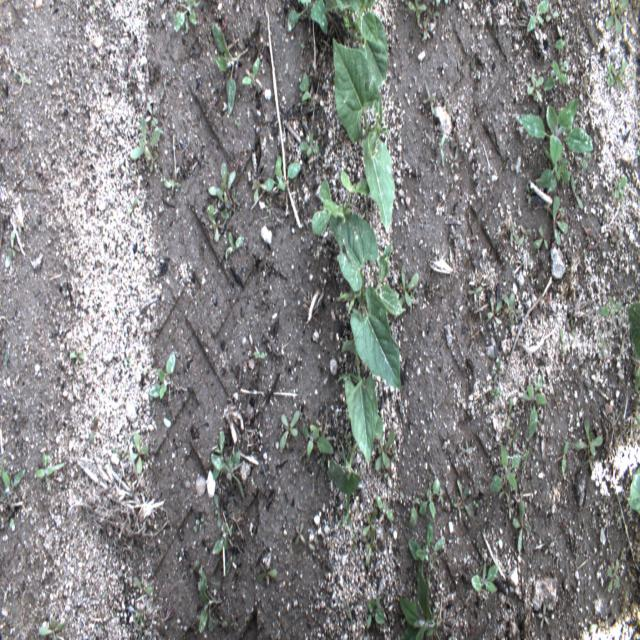crop: (310, 178, 404, 475), (332, 33, 396, 234), (284, 0, 391, 93)
weed: (515, 93, 596, 212), (208, 12, 252, 131), (399, 527, 446, 637), (328, 434, 365, 535), (248, 150, 306, 213), (490, 430, 527, 520), (208, 416, 245, 502), (361, 486, 394, 572), (205, 162, 240, 242), (125, 103, 164, 174), (400, 471, 442, 529), (197, 559, 227, 637), (518, 369, 550, 442), (208, 487, 238, 562), (405, 0, 451, 47), (571, 407, 606, 468), (302, 418, 337, 474), (1, 460, 27, 535), (126, 578, 155, 638), (450, 468, 479, 525), (278, 401, 304, 464), (147, 347, 176, 403), (486, 283, 522, 326), (469, 554, 501, 602), (549, 192, 573, 255), (593, 287, 624, 333), (512, 490, 532, 561), (295, 64, 322, 114), (362, 585, 387, 637), (32, 450, 68, 486), (240, 54, 268, 99), (524, 0, 562, 33), (421, 66, 443, 123), (127, 428, 152, 478), (169, 2, 203, 38), (294, 122, 323, 164), (602, 51, 630, 94), (626, 298, 638, 398), (222, 226, 250, 268), (400, 263, 421, 317), (620, 460, 638, 523), (2, 227, 26, 274), (605, 0, 632, 40), (503, 389, 522, 445), (498, 219, 531, 251), (520, 69, 546, 109), (32, 610, 67, 638), (162, 158, 182, 206), (544, 59, 572, 93), (484, 359, 504, 406), (448, 123, 468, 168), (602, 554, 622, 599), (556, 314, 577, 355), (428, 131, 449, 171), (610, 170, 632, 208), (468, 279, 486, 324), (9, 67, 34, 99), (291, 520, 315, 551), (248, 333, 268, 370), (257, 553, 278, 588), (529, 222, 550, 256), (556, 434, 570, 482), (534, 595, 552, 631), (446, 214, 462, 252), (86, 412, 101, 451), (343, 590, 355, 632), (192, 512, 209, 540), (553, 27, 570, 55), (463, 430, 477, 464), (68, 343, 86, 366), (610, 224, 626, 248), (522, 183, 538, 206), (124, 191, 138, 217), (144, 320, 157, 347), (543, 535, 557, 558), (2, 346, 10, 376)
